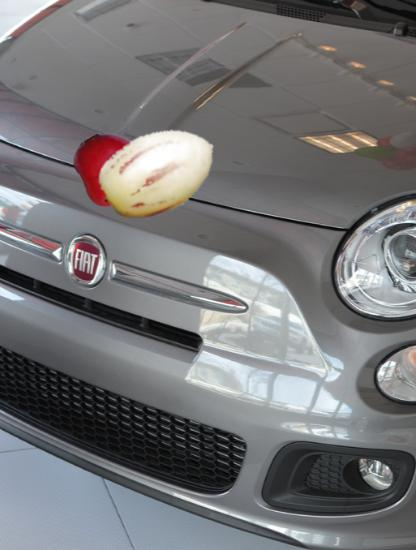Cherry: (74, 132, 148, 206)
Pepino: (97, 111, 220, 234)
